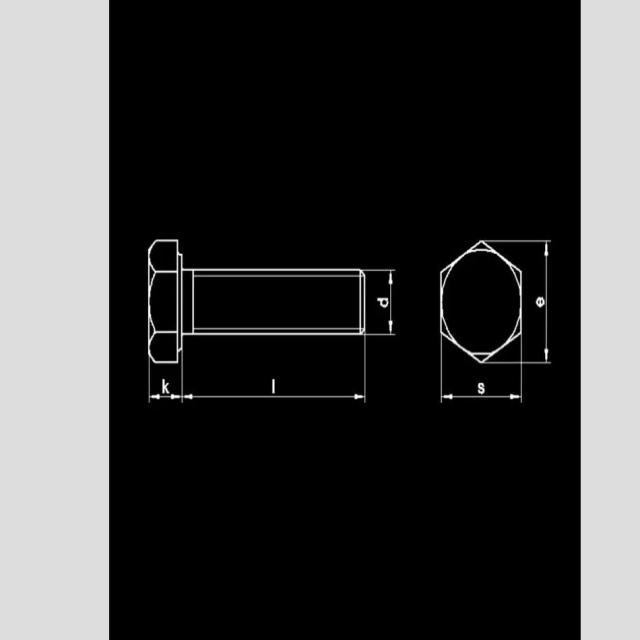marking_line: (184, 393, 364, 402), (544, 242, 552, 363), (442, 393, 520, 403), (387, 273, 394, 334), (150, 392, 180, 400)
